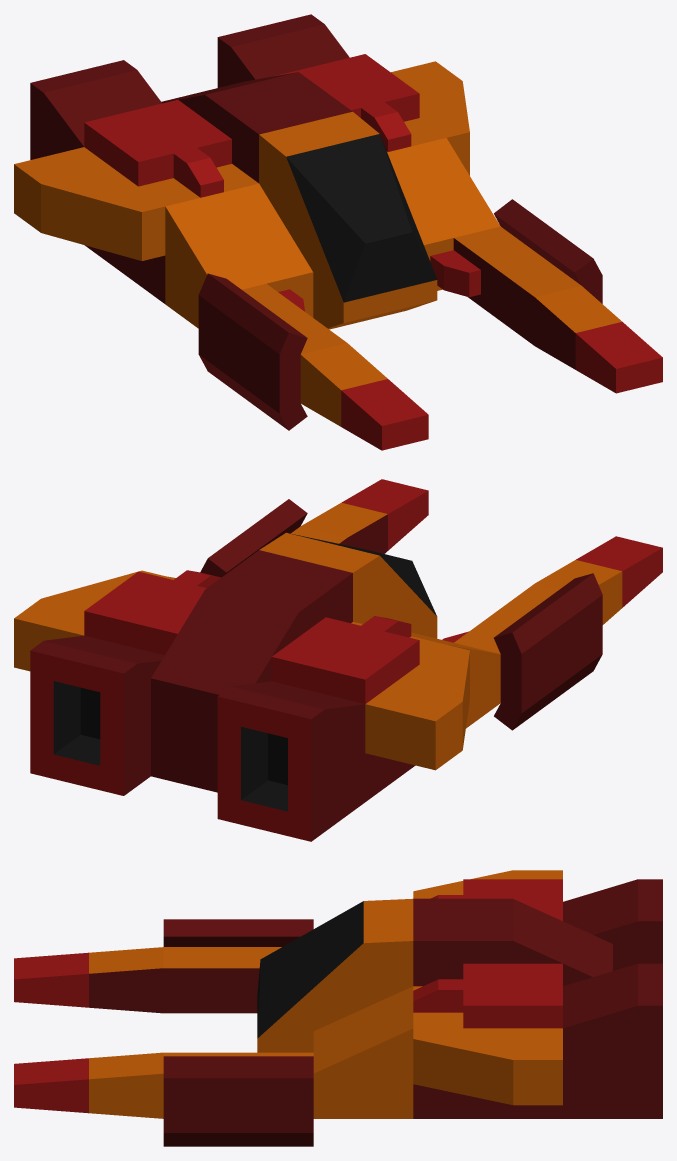
Rendered from crimson.dae.
The picture shows the model from 3 angles, top to bottom: view 1: azimuth 30°, elevation 25°; view 2: azimuth 150°, elevation 25°; view 3: azimuth 270°, elevation 25°; orthographic projection. The views are drawn at different scales.
Parts seen in each view (by area): view 1: craft_miner; view 2: craft_miner; view 3: craft_miner.
Part boxes in pixels (box(x1,y1,x2,y2)): craft_miner: box(14, 14, 662, 450); craft_miner: box(14, 479, 662, 841); craft_miner: box(14, 870, 662, 1146).
Size of the model in its own units: 1.8 by 0.7 by 2.6.
